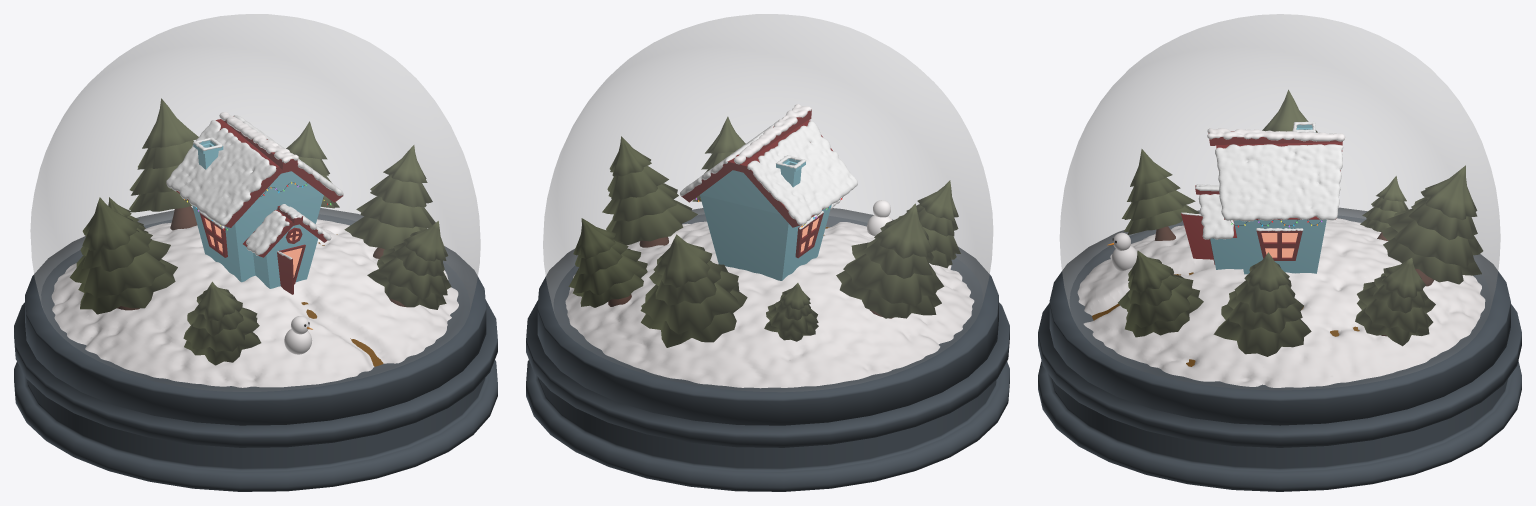
The model's file is EsferaNavidadRAFinal.glb.
3 views of the same model, side by side, from view 1: azimuth 30°, elevation 25°; view 2: azimuth 150°, elevation 25°; view 3: azimuth 270°, elevation 25° (orthographic).
Parts seen in each view (by area): view 1: esfera, Base, SnowBall.009, SnowBall.001, Plano, Cono.005, Cono.007, Cono.004, Plano.007, Cono.021, Cono.001, Cono.017 (+21 smaller); view 2: esfera, Base, SnowBall.009, Plano, SnowBall.001, Cono.025, Cono.005, Cono.016, Cono.027, Cono.007, Cono.004, Cono.024 (+17 smaller); view 3: esfera, Base, SnowBall.009, SnowBall.001, Plano, Cono.025, Cono.016, Cono.024, Cono.021, Cono.027, Cono.013, Cono.017 (+21 smaller).
Boxes of the visible parts, <box> form: esfera: <box>30,14,480,391</box>; Base: <box>14,208,497,491</box>; SnowBall.009: <box>51,219,458,387</box>; SnowBall.001: <box>166,115,343,225</box>; Plano: <box>192,171,323,282</box>; Cono.005: <box>69,240,170,298</box>; Cono.007: <box>82,197,139,250</box>; Cono.004: <box>78,259,177,314</box>; Plano.007: <box>253,224,318,288</box>; Cono.021: <box>378,248,451,299</box>; Cono.001: <box>183,300,259,351</box>; Cono.017: <box>356,196,435,228</box>; esfera: <box>543,14,992,391</box>; Base: <box>526,208,1009,491</box>; SnowBall.009: <box>565,221,974,388</box>; Plano: <box>700,170,831,280</box>; SnowBall.001: <box>680,117,857,224</box>; Cono.025: <box>640,264,740,334</box>; Cono.005: <box>843,242,944,306</box>; Cono.016: <box>606,200,697,245</box>; Cono.027: <box>653,234,712,287</box>; Cono.007: <box>874,203,932,258</box>; Cono.004: <box>836,270,941,318</box>; Cono.024: <box>641,282,747,347</box>; esfera: <box>1060,14,1500,389</box>; Base: <box>1038,207,1521,491</box>; SnowBall.009: <box>1077,218,1485,387</box>; SnowBall.001: <box>1215,133,1343,221</box>; Plano: <box>1234,219,1326,274</box>; Cono.025: <box>1386,208,1483,267</box>; Cono.016: <box>1213,304,1311,356</box>; Cono.024: <box>1381,227,1481,284</box>; Cono.021: <box>1118,274,1193,327</box>; Cono.027: <box>1421,165,1477,220</box>; Cono.013: <box>1357,281,1435,333</box>; Cono.017: <box>1227,291,1303,333</box>.
Size of the model in its own units: 12.75 by 10.22 by 12.75.
